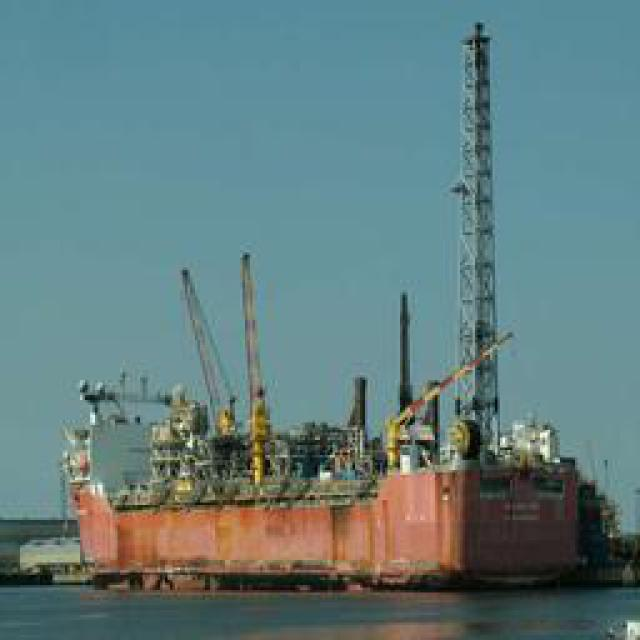Ship: (55, 229, 608, 592)
